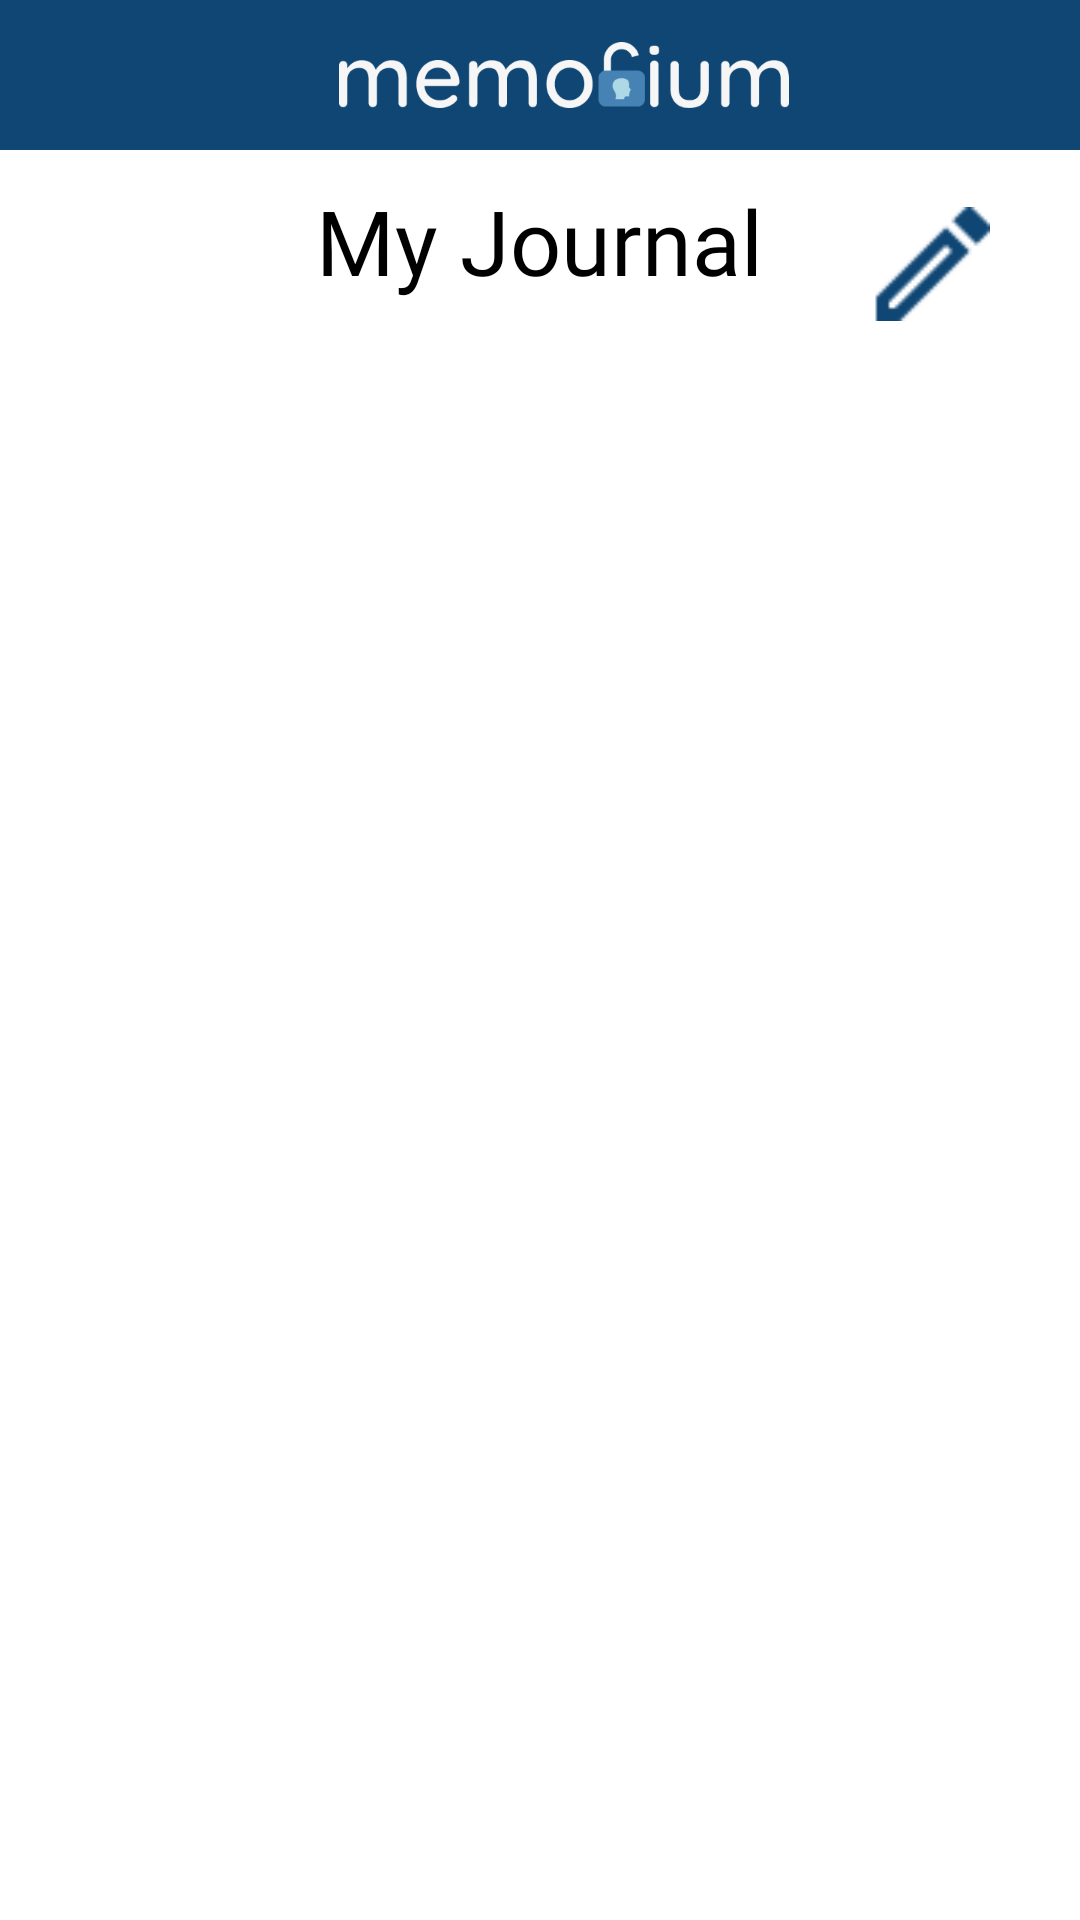

Where icons sit on this 1080 × 1920 app screen, as bbox=(x1, y1, x2, y2):
journal add: bbox=(875, 207, 990, 321)
